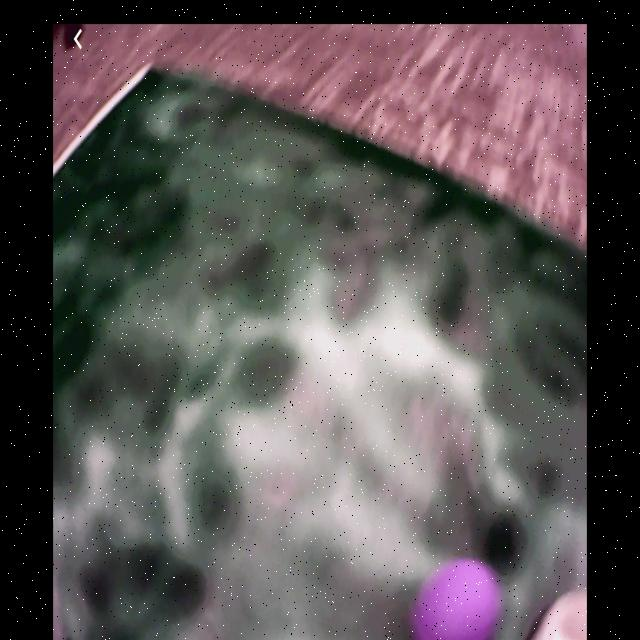ball: (416, 559, 499, 640)
